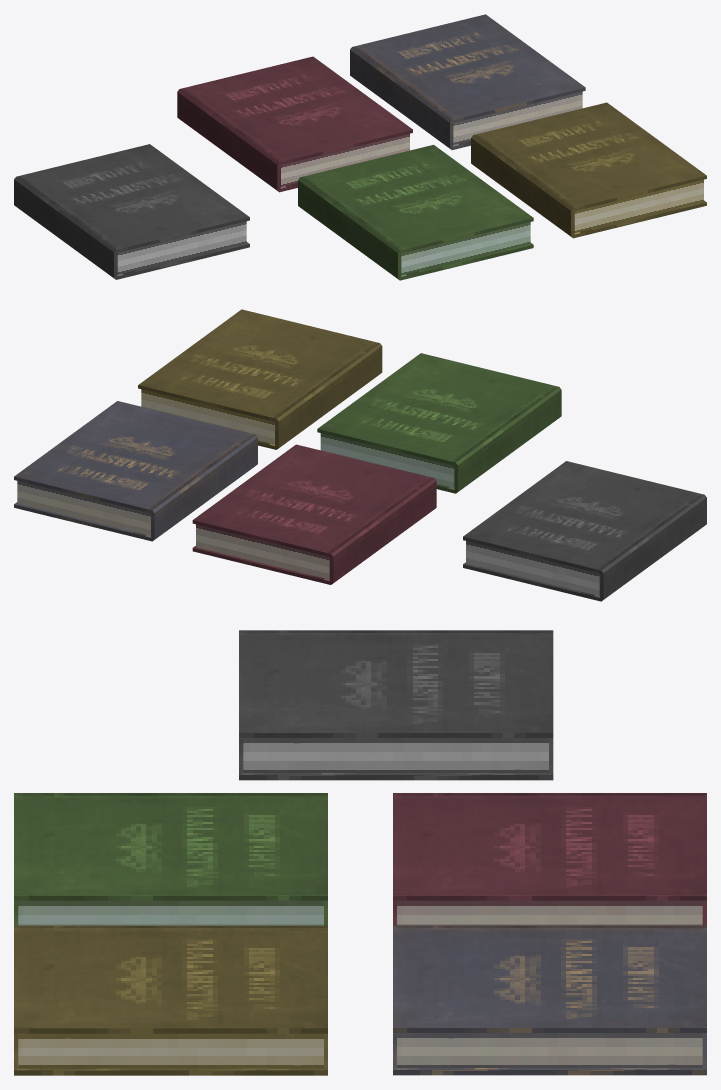
File: manuel_book.fbx
The picture shows the model from 3 angles, top to bottom: view 1: azimuth 30°, elevation 25°; view 2: azimuth 150°, elevation 25°; view 3: azimuth 270°, elevation 25°; orthographic projection. The views are drawn at different scales.
Parts seen in each view (by area): view 1: Cube.005, Cube.002, Cube.004, Cube, Cube.001; view 2: Cube.001, Cube.005, Cube, Cube.002, Cube.004; view 3: Cube.005, Cube, Cube.004, Cube.001, Cube.002.
Part boxes in pixels (box(x1,y1,x2,y2)): Cube.005: box(14, 144, 249, 279); Cube.002: box(298, 144, 533, 280); Cube.004: box(471, 102, 706, 238); Cube: box(350, 14, 585, 149); Cube.001: box(177, 56, 412, 192); Cube.001: box(192, 444, 436, 584); Cube.005: box(463, 461, 706, 601); Cube: box(14, 401, 257, 541); Cube.002: box(317, 353, 561, 493); Cube.004: box(138, 309, 382, 449); Cube.005: box(239, 630, 553, 780); Cube: box(393, 925, 706, 1075); Cube.004: box(14, 925, 327, 1075); Cube.001: box(393, 793, 706, 925); Cube.002: box(14, 793, 327, 925).
Bounding box in the file's own units: 2395 × 132 × 1755.
5 materials, 5 textured.
